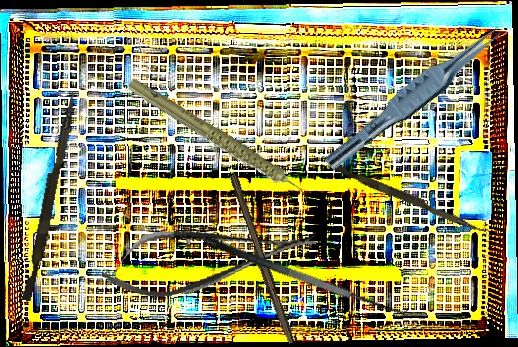Handpiece: (124, 45, 314, 240)
Micro Scissor: (97, 210, 321, 307)
Pusher: (21, 90, 78, 303), (328, 161, 486, 234)
Scalpel Handle: (224, 173, 298, 346)
Spatula Surgical: (202, 217, 413, 326)
Tissue Forceps: (322, 15, 508, 181)
